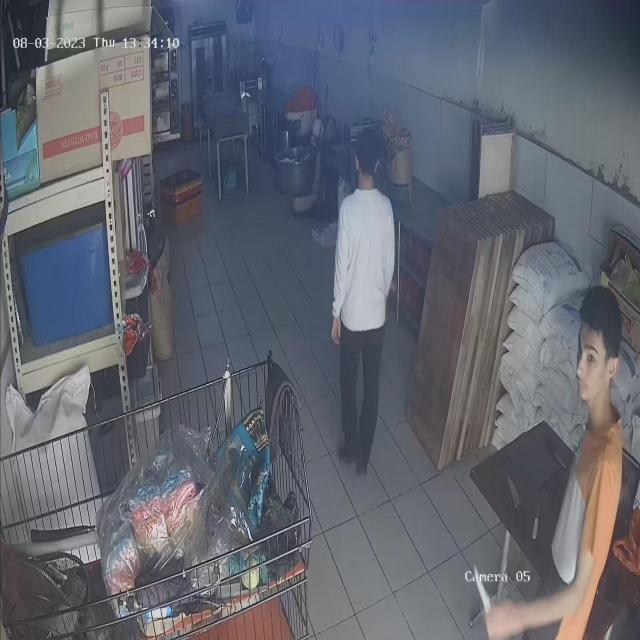Knife: (458, 552, 502, 618)
